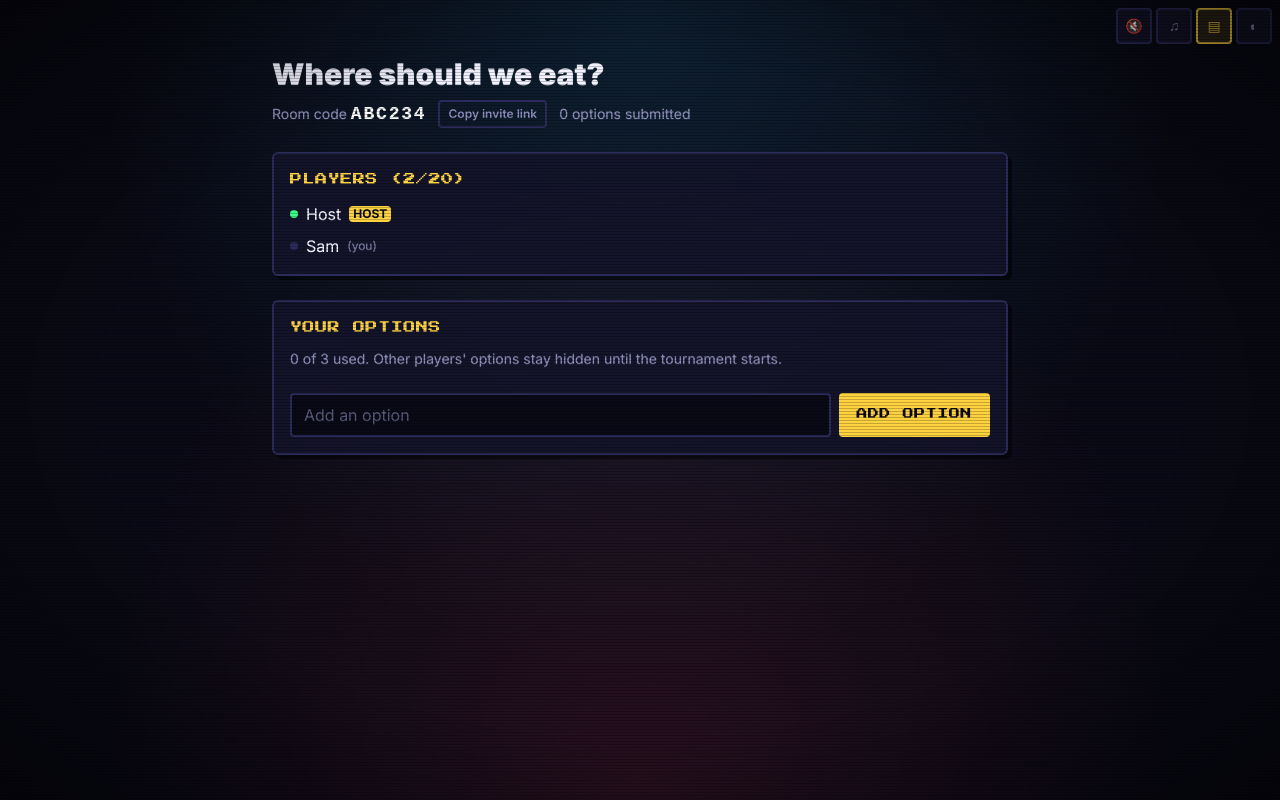
Test: lobby (guest) › shows a submission error
Type "!!!" into the field named "your option" at (560, 415), box [290, 393, 830, 437]
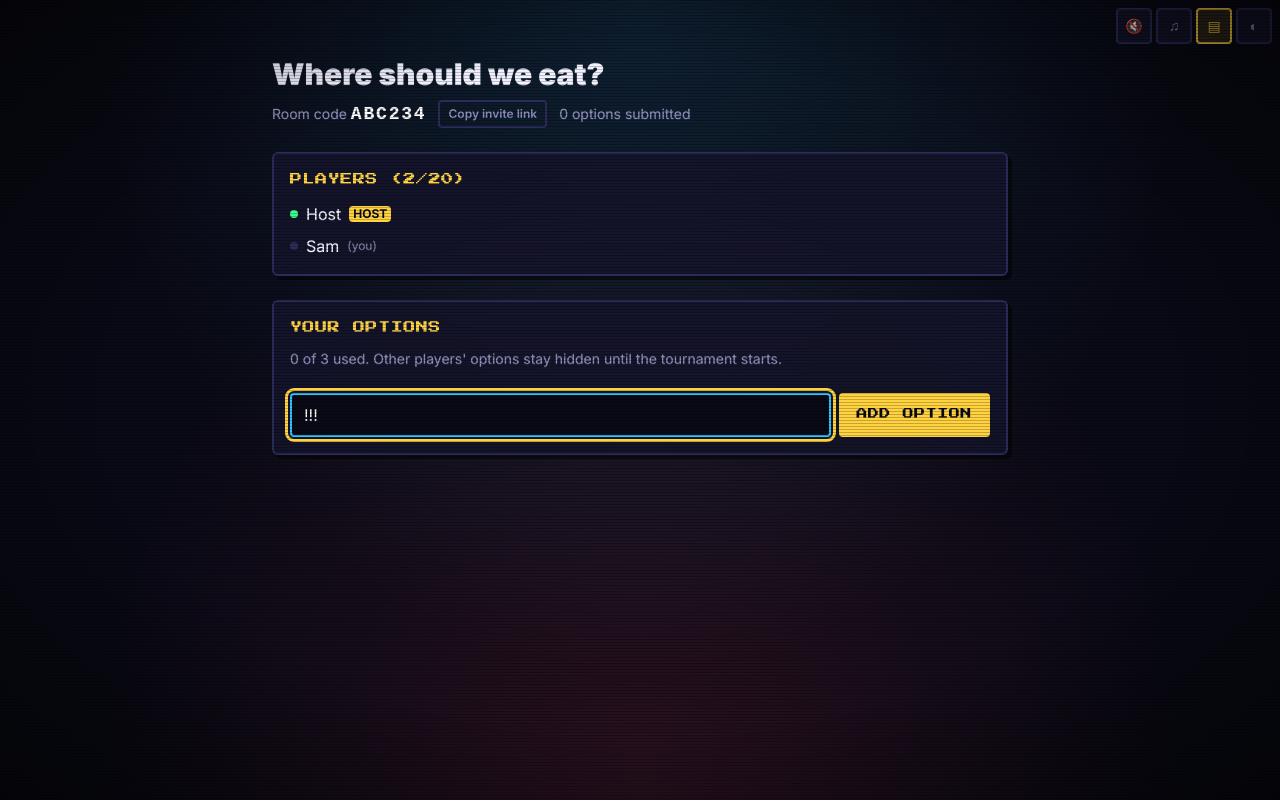
Click the button "Add option" at (914, 415), box [838, 393, 990, 437]
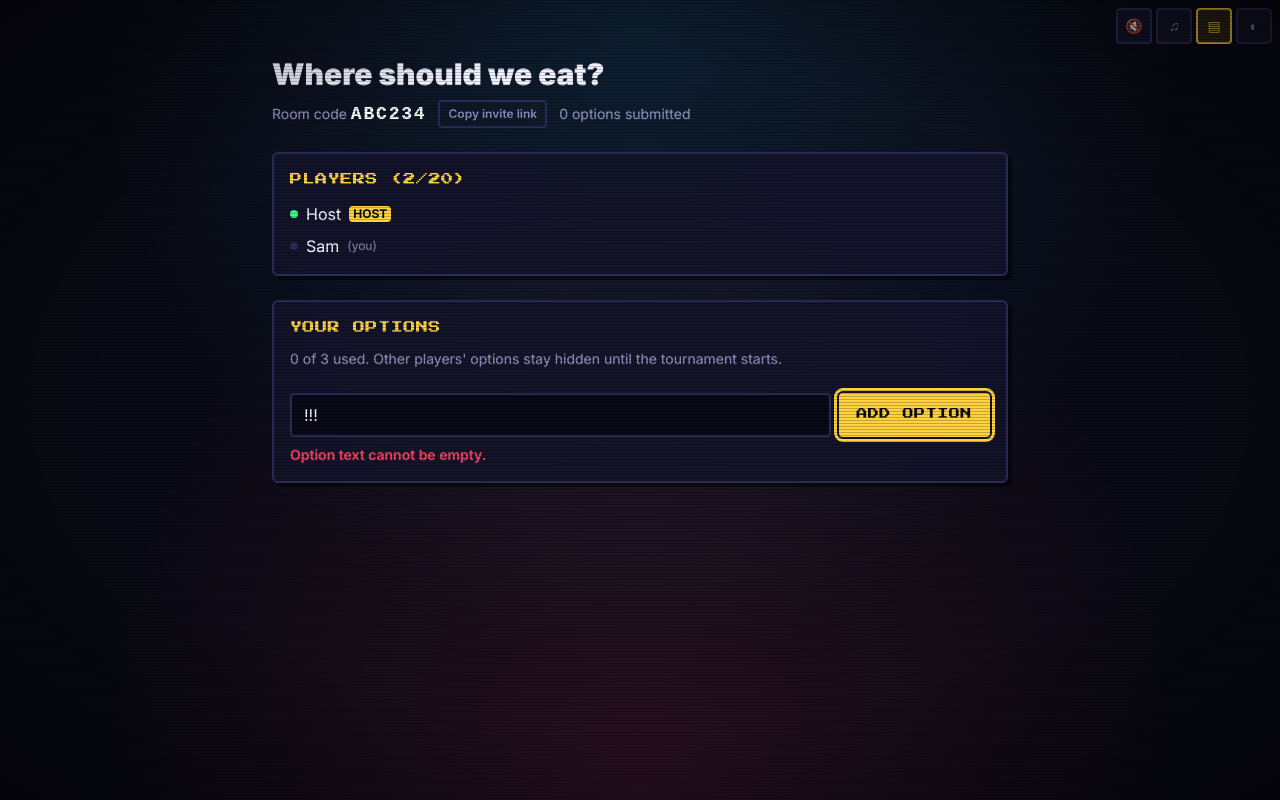
Expected: the message reads "Option text cannot be empty.", [290, 446, 486, 463]
